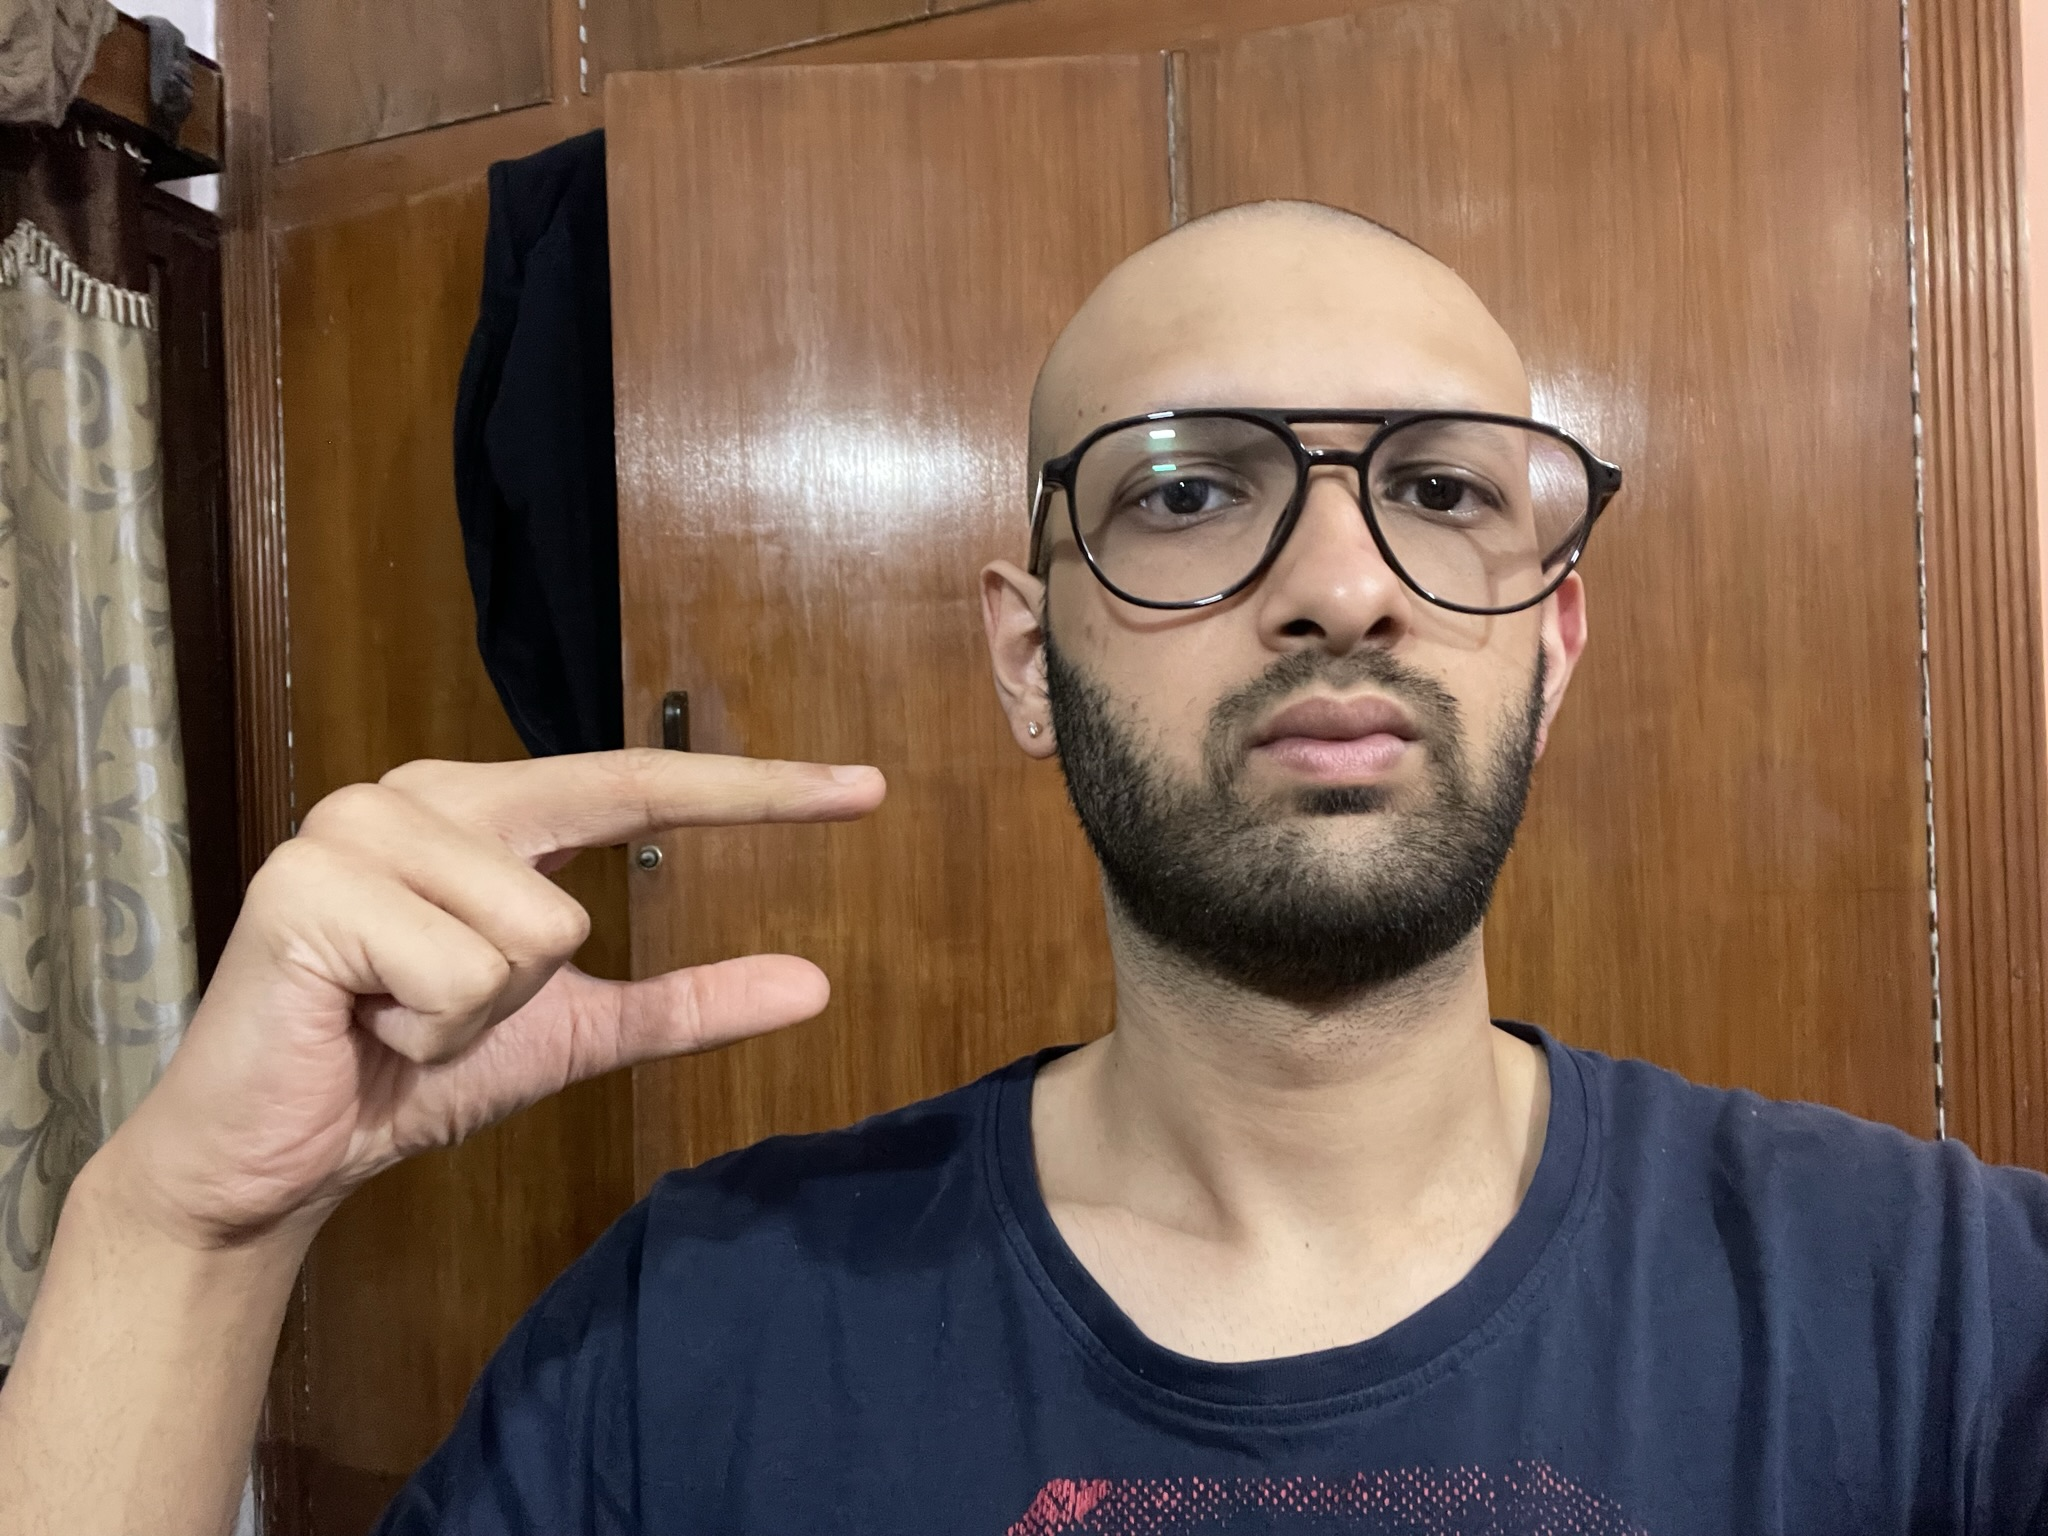No: (82, 731, 893, 1212)
